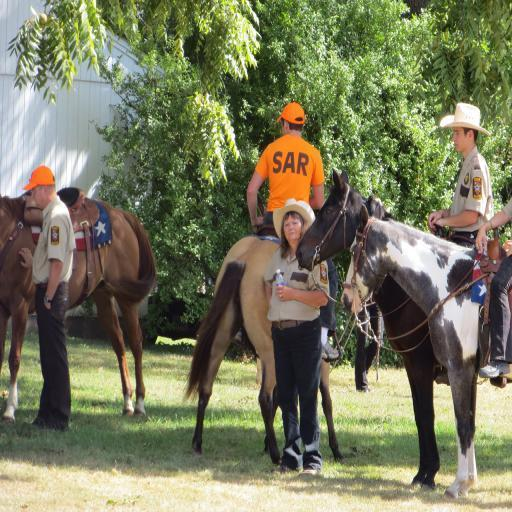horse: (341, 200, 511, 496), (296, 166, 448, 492), (183, 193, 345, 464), (0, 189, 155, 419)
